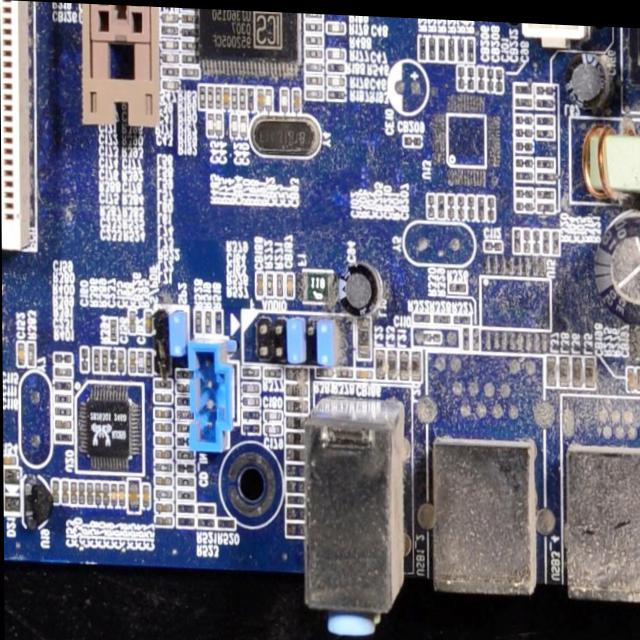IC: (197, 7, 302, 77), (73, 378, 141, 471)
capacitor: (587, 201, 640, 322), (561, 44, 611, 109), (338, 257, 382, 316), (128, 478, 139, 511), (213, 109, 225, 138), (229, 111, 240, 138), (53, 417, 71, 431), (239, 112, 249, 137), (241, 393, 260, 406), (495, 64, 504, 90), (16, 342, 25, 368), (326, 20, 345, 32), (327, 45, 346, 57), (475, 63, 484, 88), (255, 271, 264, 296), (241, 380, 260, 391), (144, 308, 152, 334), (286, 271, 294, 296), (51, 478, 59, 503), (117, 482, 125, 507), (355, 366, 373, 377), (61, 479, 69, 503), (264, 422, 281, 433), (77, 479, 84, 505), (264, 409, 282, 419), (93, 482, 101, 504), (102, 483, 110, 505), (69, 479, 76, 504), (85, 480, 92, 505), (129, 308, 136, 332), (3, 456, 18, 467), (142, 483, 149, 506), (207, 109, 213, 135), (130, 349, 136, 372), (110, 483, 116, 505)
connector: (71, 2, 170, 137), (0, 0, 39, 248)
resistor: (536, 195, 556, 210), (514, 91, 535, 105), (180, 10, 199, 25), (25, 341, 35, 369), (240, 420, 260, 434), (303, 18, 324, 31), (192, 307, 202, 334), (53, 431, 73, 444), (304, 30, 322, 44), (466, 32, 475, 60), (160, 64, 181, 76), (54, 378, 72, 392), (53, 351, 72, 364), (305, 45, 325, 57), (179, 64, 199, 76), (326, 87, 346, 99), (535, 183, 555, 195), (262, 365, 282, 377), (241, 407, 261, 419), (417, 32, 426, 58), (514, 79, 532, 92), (315, 363, 333, 376), (326, 73, 347, 84), (535, 109, 556, 120), (535, 93, 554, 105), (514, 165, 533, 177), (53, 405, 72, 417), (216, 516, 235, 528), (446, 32, 455, 57), (537, 153, 554, 166), (197, 502, 215, 514), (428, 31, 436, 57), (456, 33, 464, 59), (437, 32, 445, 58), (204, 307, 212, 333), (275, 271, 284, 294), (214, 309, 222, 334), (305, 59, 323, 70), (536, 124, 554, 135), (335, 364, 353, 375), (242, 365, 260, 376), (54, 394, 72, 405), (197, 515, 215, 526), (449, 279, 466, 290), (266, 270, 273, 296), (109, 316, 116, 342), (452, 311, 470, 321), (155, 488, 173, 498), (182, 52, 199, 62), (306, 86, 323, 96), (433, 310, 450, 320), (305, 74, 323, 83), (412, 310, 430, 319), (53, 367, 71, 376), (181, 26, 198, 34), (303, 11, 325, 16), (180, 6, 199, 9)
